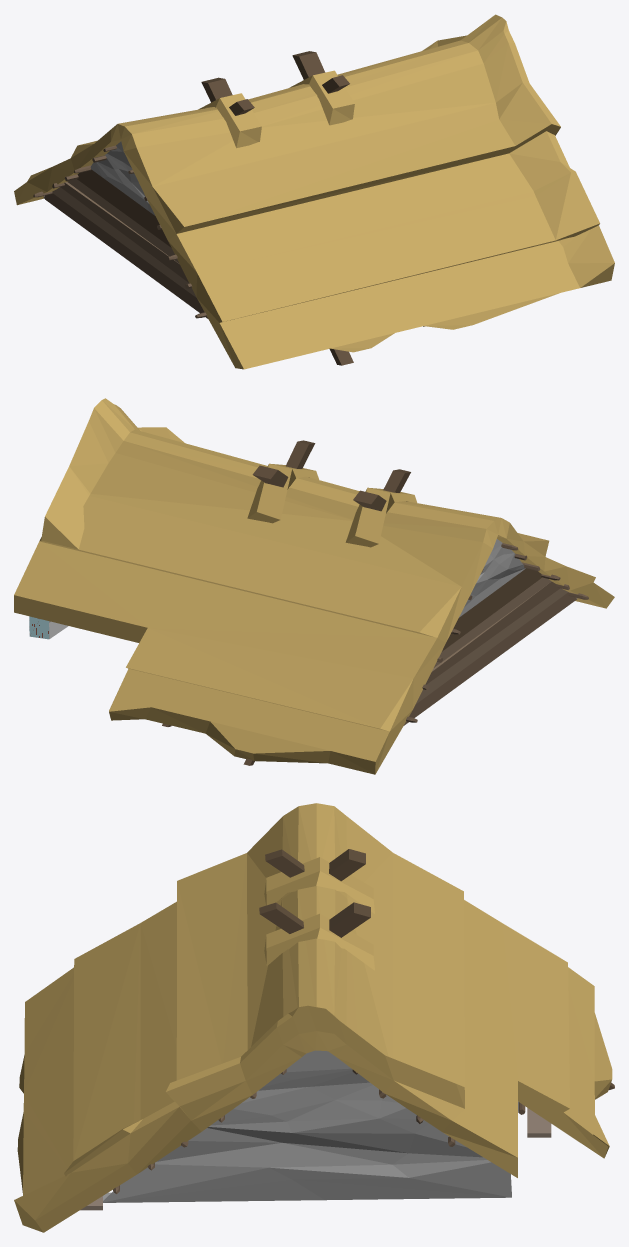
Rendered from EA03_Village_Hut_Roof_Cut_01b.fbx.
3 renders of one model, top to bottom at view 1: azimuth 30°, elevation 25°; view 2: azimuth 150°, elevation 25°; view 3: azimuth 270°, elevation 25°, orthographic. The views are drawn at different scales.
Visible parts, largest first — view 1: EA03_Village_Hut_Roof_Cut_01b_LOD0; view 2: EA03_Village_Hut_Roof_Cut_01b_LOD0; view 3: EA03_Village_Hut_Roof_Cut_01b_LOD0.
Part boxes in pixels (box(x1,y1,x2,y2)): EA03_Village_Hut_Roof_Cut_01b_LOD0: box(14, 14, 614, 369); EA03_Village_Hut_Roof_Cut_01b_LOD0: box(14, 398, 614, 774); EA03_Village_Hut_Roof_Cut_01b_LOD0: box(14, 803, 614, 1232).
Size of what is drawn, in the model's own units: 10.55 by 5.22 by 11.37.
